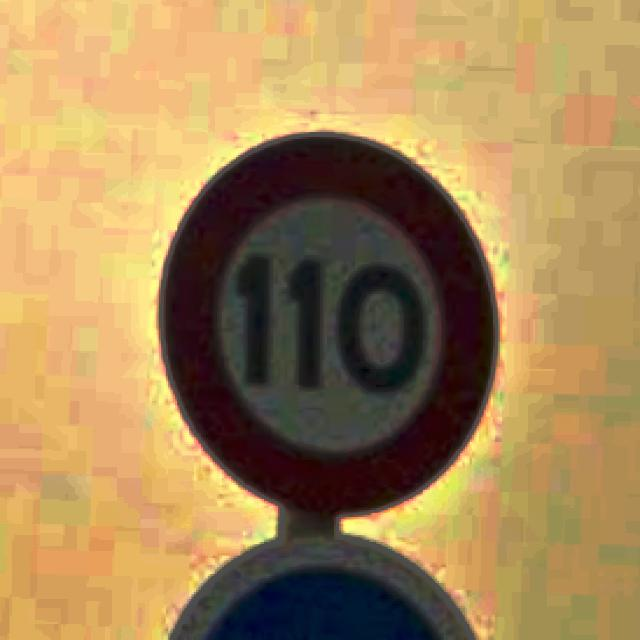max110: (157, 128, 498, 517)
